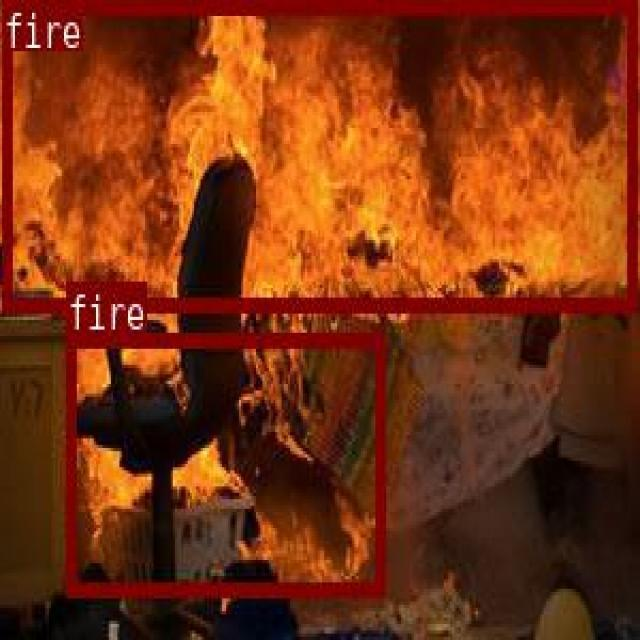fire: (1, 0, 635, 307), (66, 331, 383, 593)
